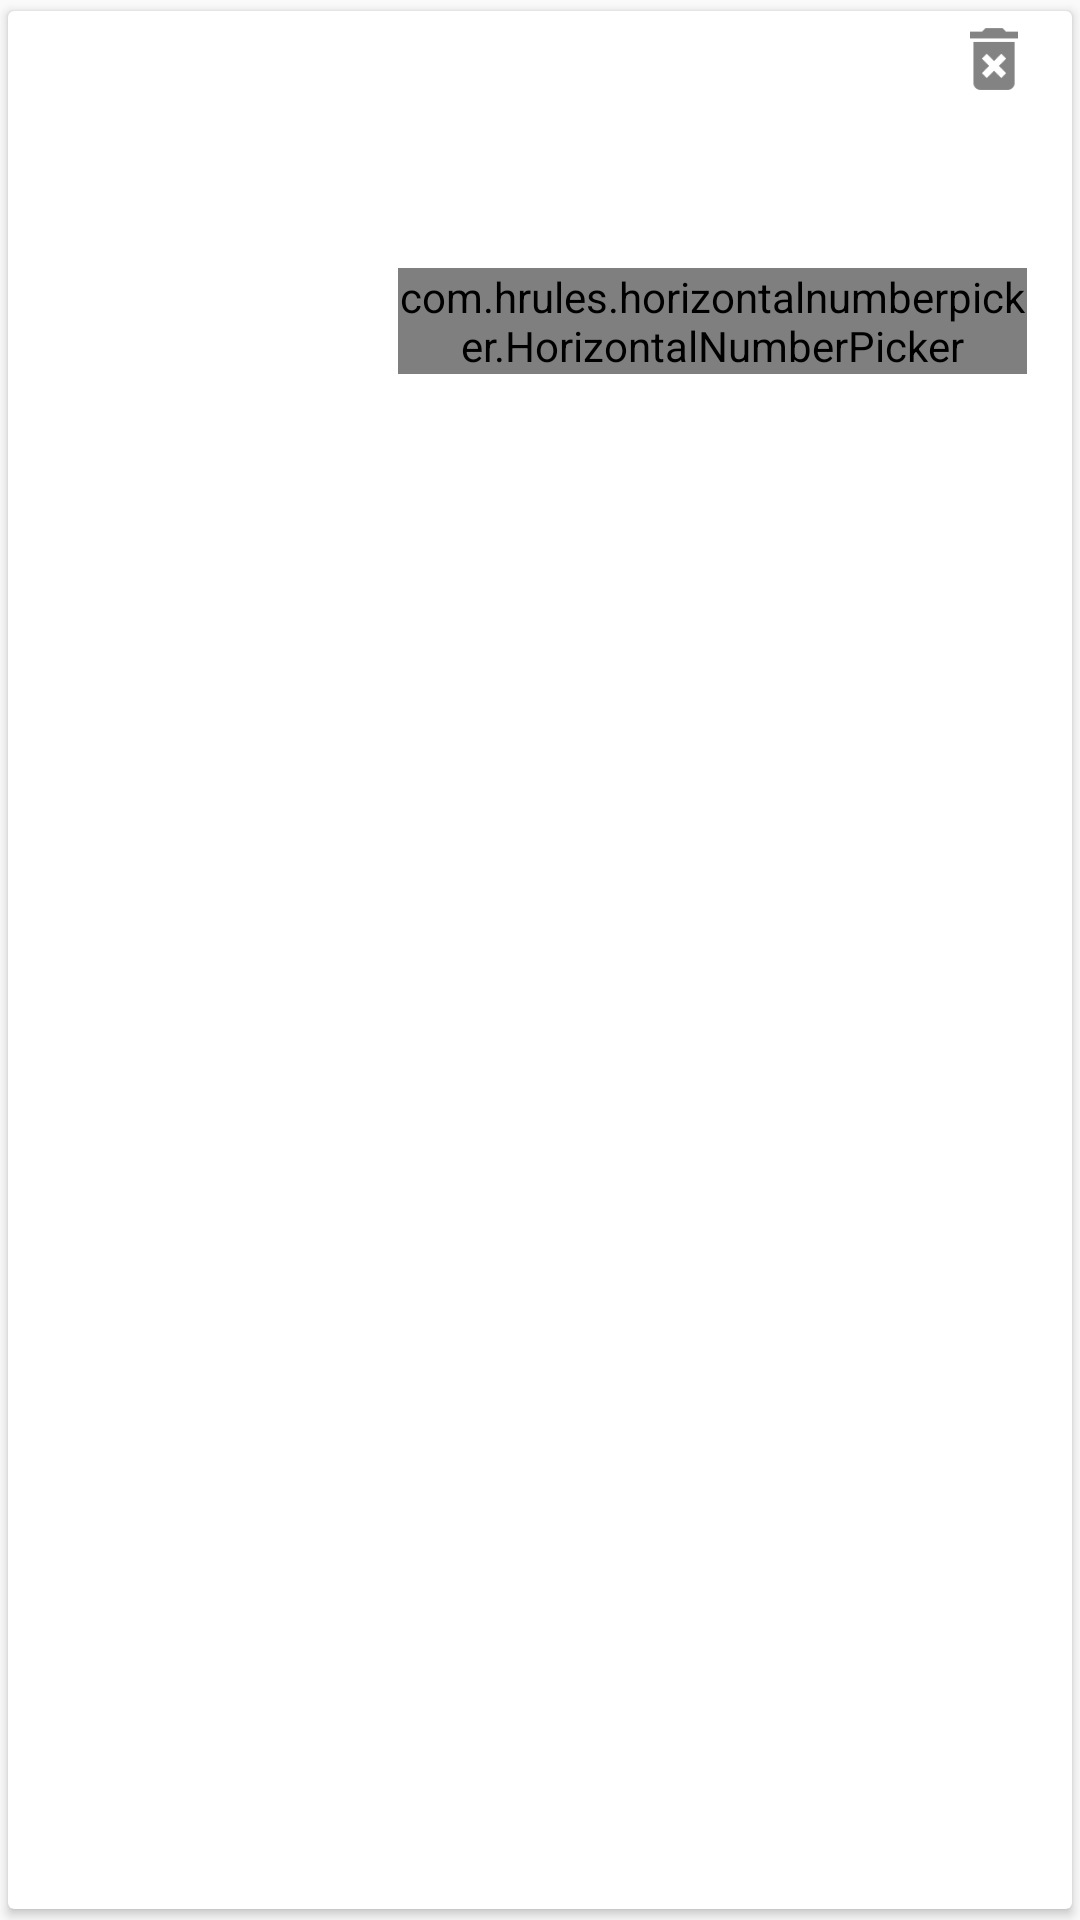

Icon click points for this 1080*1920 phone screenshot, format point (x, y):
delete forever: point (994, 59)
